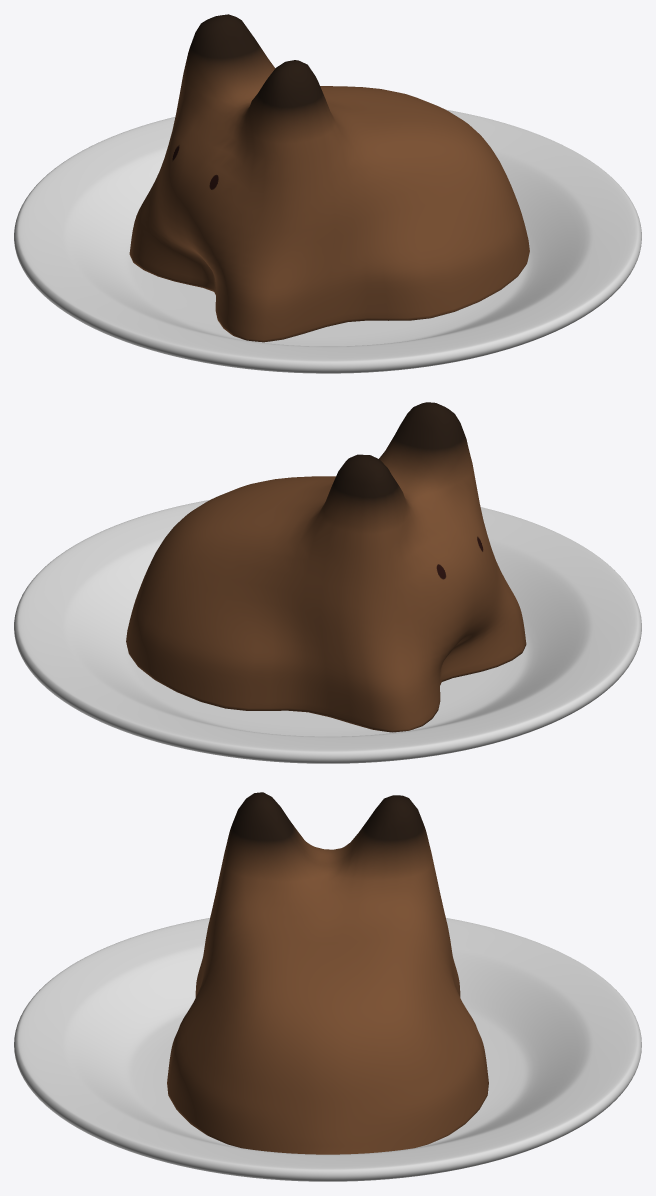
The model's file is pudding.glb.
3 views of the same model, one above another, from view 1: azimuth 30°, elevation 25°; view 2: azimuth 150°, elevation 25°; view 3: azimuth 270°, elevation 25° (orthographic).
Parts seen in each view (by area): view 1: bunny, plate; view 2: bunny, plate; view 3: bunny, plate.
Part boxes in pixels (left/top/right/bottom): bunny: left=129, top=14, right=529, bottom=342; plate: left=14, top=109, right=641, bottom=373; bunny: left=126, top=402, right=526, bottom=732; plate: left=14, top=500, right=641, bottom=763; bunny: left=167, top=792, right=488, bottom=1154; plate: left=14, top=918, right=641, bottom=1181.
Bounding box in the file's own units: 0.5568 × 0.2554 × 0.5568.
Materials: 2 (1 with a texture image).
